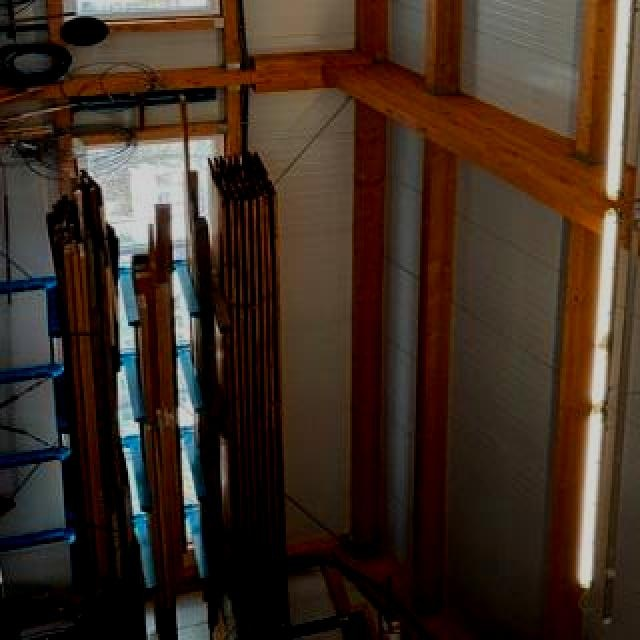fluorescent tube: (575, 205, 637, 413), (560, 409, 624, 602), (588, 0, 640, 208)
